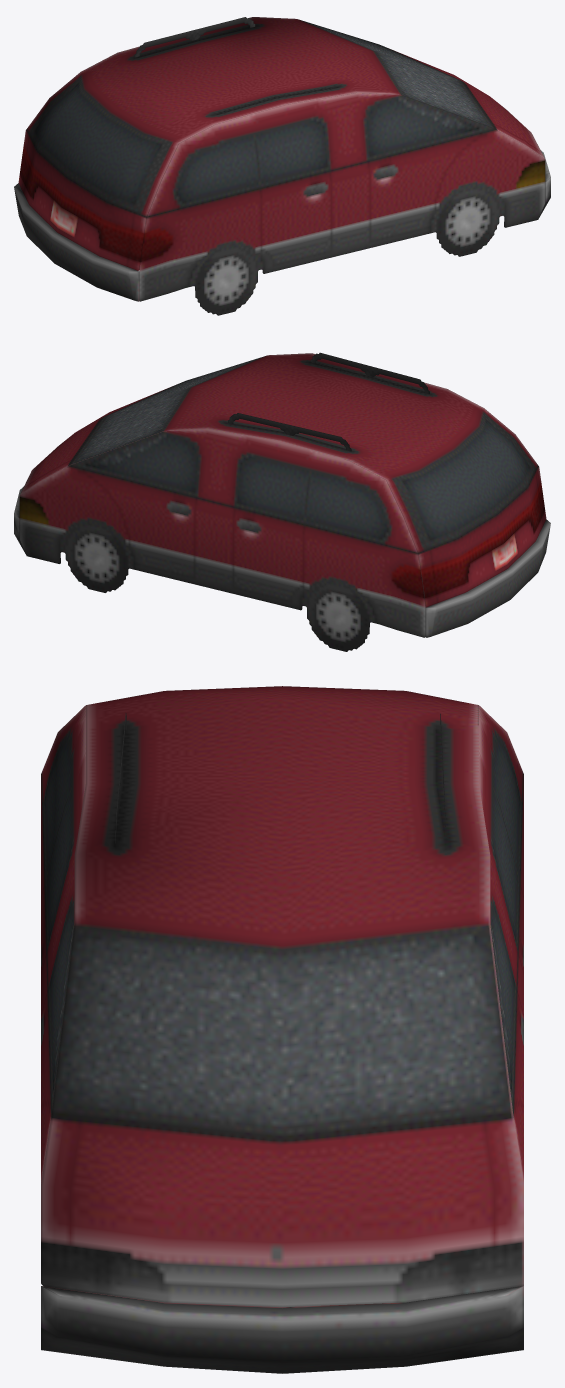
Rendered from PREVIA1.obj.
3 views of the same model, one above another, from view 1: azimuth 30°, elevation 25°; view 2: azimuth 150°, elevation 25°; view 3: azimuth 270°, elevation 25° (orthographic). The views are drawn at different scales.
Parts seen in each view (by area): view 1: previa; view 2: previa; view 3: previa.
Boxes of the visible parts, bbox=[...] form: previa: bbox=[14, 17, 550, 315]; previa: bbox=[14, 352, 550, 651]; previa: bbox=[41, 686, 523, 1373].
Size of the model in its own units: 192 by 77 by 86.
